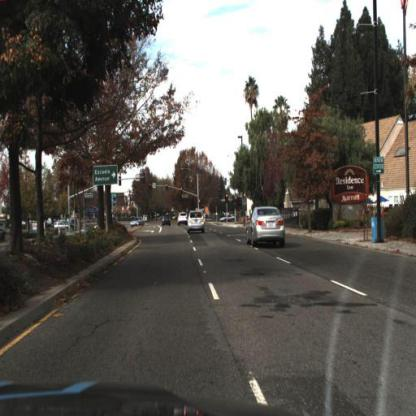car: (245, 204, 288, 253), (186, 207, 208, 238), (176, 207, 192, 230), (130, 217, 152, 230), (219, 214, 240, 226), (160, 214, 173, 230)
trafficLight: (198, 195, 204, 209)
trafficLight-Red: (164, 180, 170, 196), (225, 191, 230, 207), (180, 185, 185, 196)
trafficLight-RedLeft: (149, 181, 154, 194)
